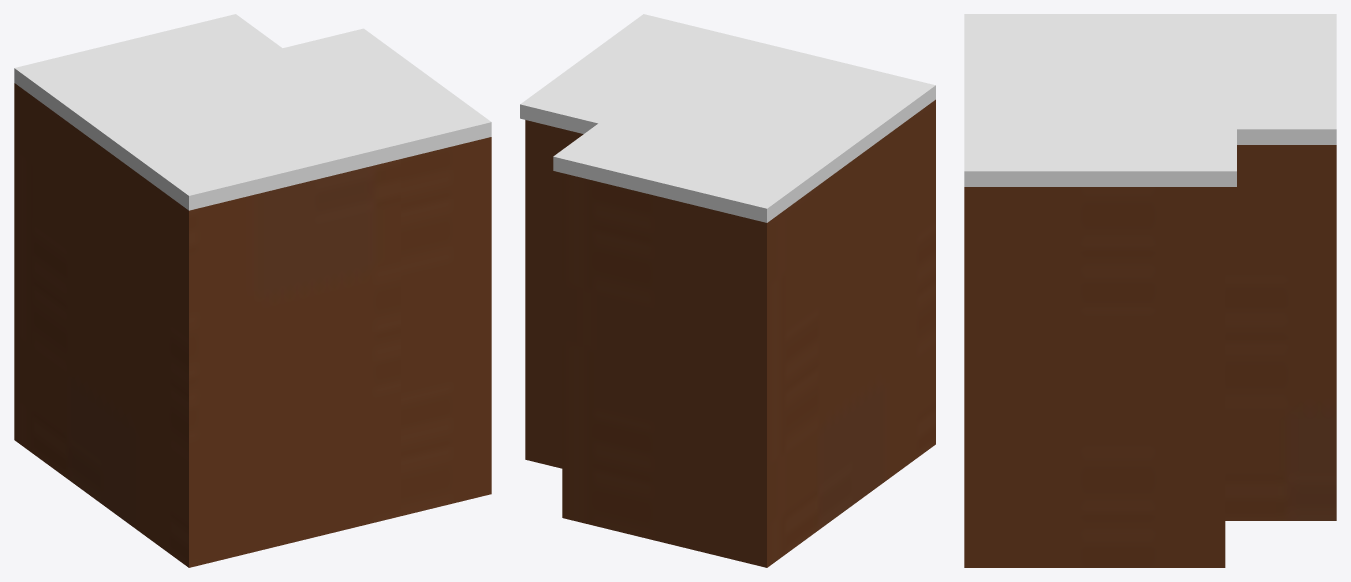
Rendered from CabinetCCorner01.glb.
3 renders of one model, left to right at view 1: azimuth 30°, elevation 25°; view 2: azimuth 150°, elevation 25°; view 3: azimuth 270°, elevation 25°, orthographic. The views are drawn at different scales.
Visible parts, largest first — view 1: CabinetCCorner01_model; view 2: CabinetCCorner01_model; view 3: CabinetCCorner01_model.
Boxes of the visible parts, x1,y1,x2,y2 form: CabinetCCorner01_model: (14,14,491,567); CabinetCCorner01_model: (520,14,935,567); CabinetCCorner01_model: (964,14,1336,567).
Size of the model in its own units: 1.72 by 2.02 by 1.72.
1 material, 1 textured.
